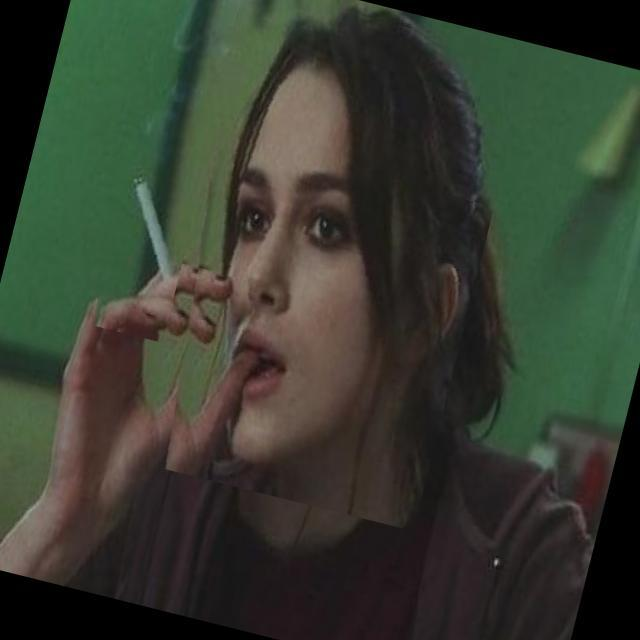cigarette: (78, 112, 214, 342)
